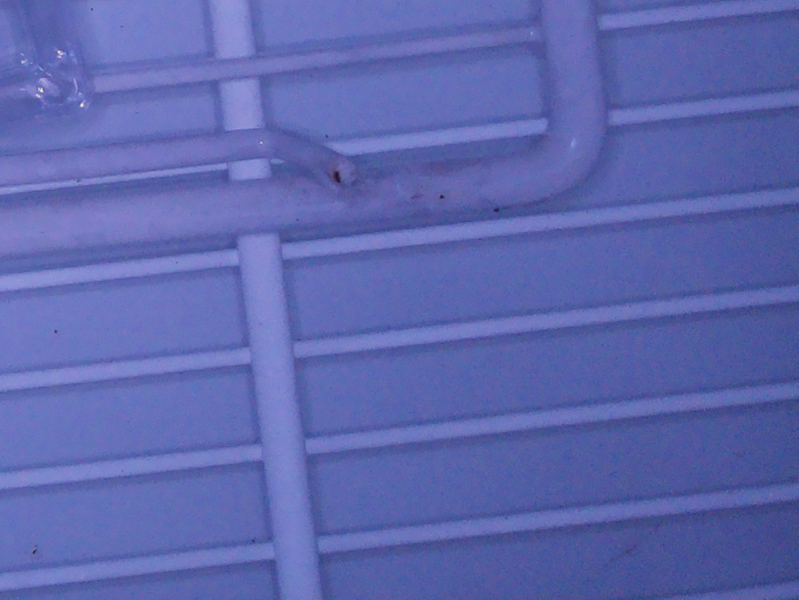plate: (1, 1, 95, 137)
